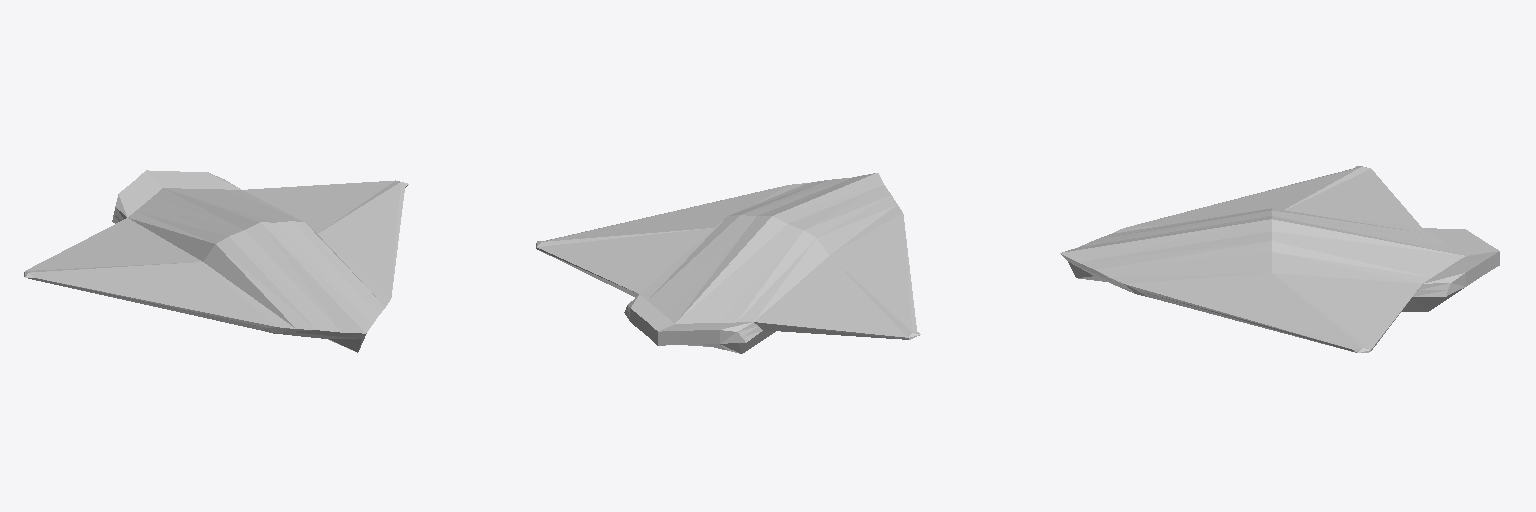
File: Fighter.obj
3 views of the same model, side by side, from view 1: azimuth 30°, elevation 25°; view 2: azimuth 150°, elevation 25°; view 3: azimuth 270°, elevation 25° (orthographic).
Visible parts, largest first — view 1: Spaceplane_SpaceFighter; view 2: Spaceplane_SpaceFighter; view 3: Spaceplane_SpaceFighter.
Part boxes in pixels (left/top/right/bottom): Spaceplane_SpaceFighter: left=24, top=170, right=408, bottom=352; Spaceplane_SpaceFighter: left=536, top=173, right=920, bottom=353; Spaceplane_SpaceFighter: left=1060, top=166, right=1499, bottom=352.
Size of the model in its own units: 14.76 by 2.7 by 14.63.